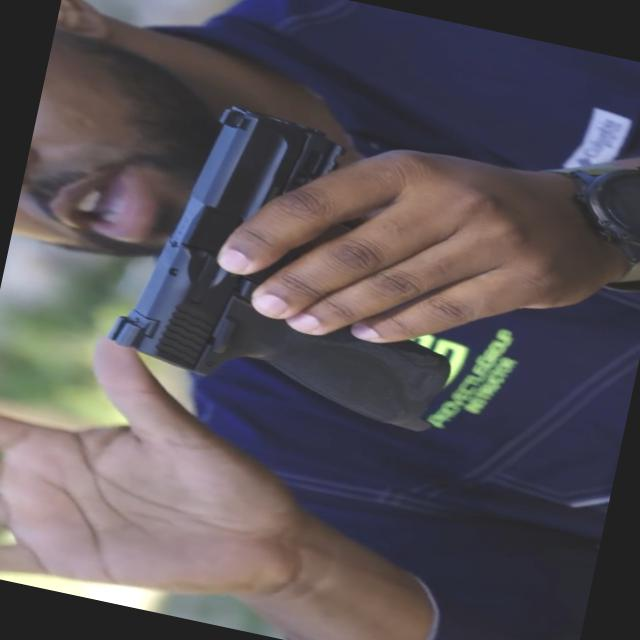handgun: (60, 80, 496, 443)
